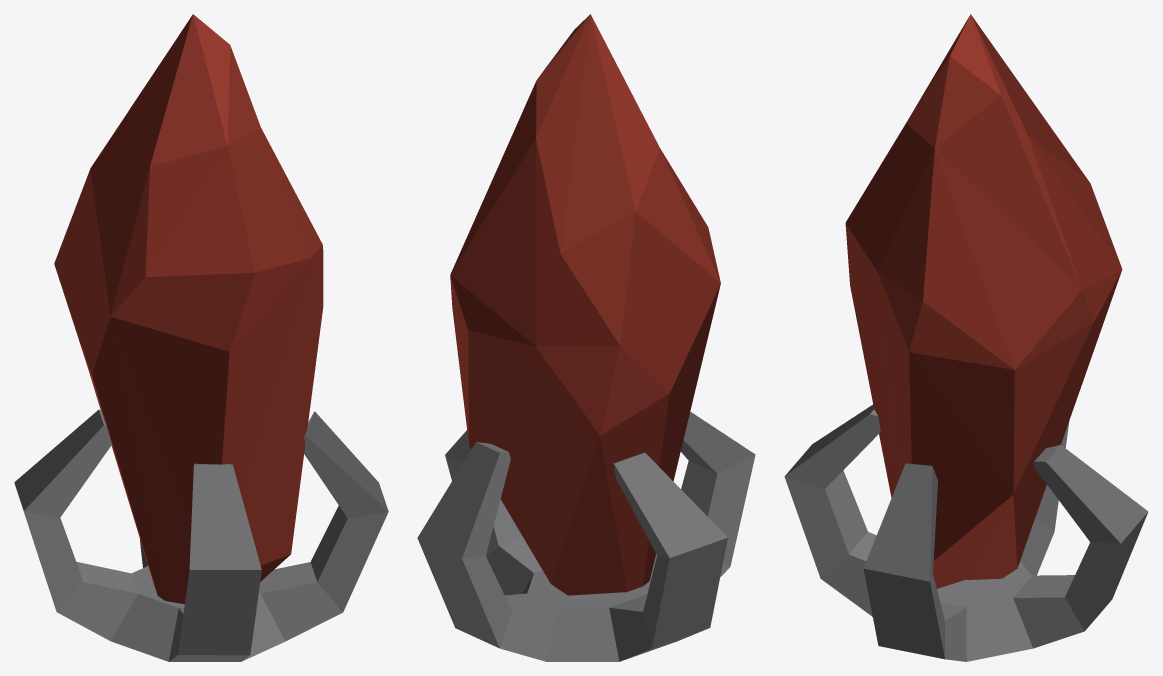
The model's file is Cristal_Luz.FBX.
The picture shows the model from 3 angles, left to right: view 1: azimuth 30°, elevation 25°; view 2: azimuth 150°, elevation 25°; view 3: azimuth 270°, elevation 25°; orthographic projection.
Parts seen in each view (by area): view 1: Cristal_Luz; view 2: Cristal_Luz; view 3: Cristal_Luz.
Boxes of the visible parts, x1,y1,x2,y2 form: Cristal_Luz: (14,14,388,661); Cristal_Luz: (417,14,755,661); Cristal_Luz: (784,14,1148,661).
Size of the model in its own units: 41.76 by 78.46 by 41.85.
Materials: 1 (1 with a texture image).
